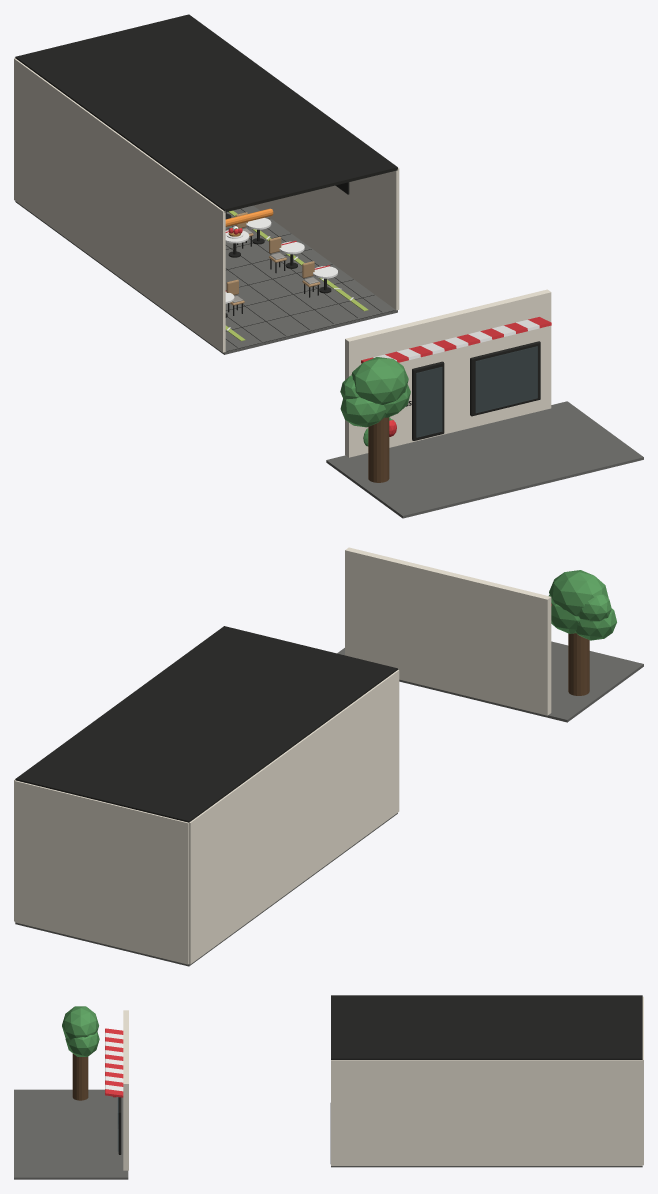
Rendered from Jagro_Polhengoda.glb.
The picture shows the model from 3 angles, top to bottom: view 1: azimuth 30°, elevation 25°; view 2: azimuth 150°, elevation 25°; view 3: azimuth 270°, elevation 25°; orthographic projection. The views are drawn at different scales.
Visible parts, largest first — view 1: INT_Ceiling, INT_LeftWall, EXT_Ground, EXT_Facade, INT_Floor, INT_RightWall, EXT_ServiceFrame, EXT_ServiceGlass, EXT_DoorFrame, EXT_TreeCrown_2, EXT_DoorGlass, EXT_TreeTrunk (+1 smaller); view 2: INT_Ceiling, INT_LeftWall, INT_BackWall, EXT_Facade, EXT_Ground, EXT_TreeCrown_2, EXT_TreeTrunk, INT_Floor, EXT_TreeCrown_0, EXT_TreeCrown_3, EXT_TreeCrown_1; view 3: INT_RightWall, INT_Ceiling, EXT_Ground, EXT_TreeCrown_2, EXT_Facade, EXT_TreeTrunk, INT_Floor, EXT_TreeCrown_1, INT_BackWall.
Part boxes in pixels (bbox=[...]): INT_Ceiling: bbox=[15, 14, 397, 212]; INT_LeftWall: bbox=[14, 58, 225, 352]; EXT_Ground: bbox=[326, 401, 643, 518]; EXT_Facade: bbox=[345, 289, 551, 457]; INT_Floor: bbox=[15, 201, 397, 354]; INT_RightWall: bbox=[253, 167, 399, 310]; EXT_ServiceFrame: bbox=[470, 341, 540, 416]; EXT_ServiceGlass: bbox=[475, 346, 537, 413]; EXT_DoorFrame: bbox=[412, 361, 444, 440]; EXT_TreeCrown_2: bbox=[351, 357, 408, 404]; EXT_DoorGlass: bbox=[416, 367, 442, 437]; EXT_TreeTrunk: bbox=[368, 417, 389, 482]; INT_Ceiling: bbox=[15, 626, 397, 822]; INT_LeftWall: bbox=[189, 670, 399, 964]; INT_BackWall: bbox=[14, 780, 188, 964]; EXT_Facade: bbox=[345, 547, 551, 715]; EXT_Ground: bbox=[337, 641, 643, 722]; EXT_TreeCrown_2: bbox=[549, 570, 608, 616]; EXT_TreeTrunk: bbox=[568, 633, 589, 695]; INT_Floor: bbox=[15, 813, 397, 966]; EXT_TreeCrown_0: bbox=[575, 608, 616, 640]; EXT_TreeCrown_3: bbox=[579, 594, 611, 621]; EXT_TreeCrown_1: bbox=[549, 595, 580, 633]; INT_RightWall: bbox=[331, 1060, 642, 1165]; INT_Ceiling: bbox=[331, 995, 642, 1059]; EXT_Ground: bbox=[14, 1089, 128, 1179]; EXT_TreeCrown_2: bbox=[62, 1006, 98, 1039]; EXT_Facade: bbox=[123, 1010, 128, 1170]; EXT_TreeTrunk: bbox=[72, 1053, 88, 1100]; INT_Floor: bbox=[331, 1166, 642, 1167]; EXT_TreeCrown_1: bbox=[65, 1032, 99, 1056]; INT_BackWall: bbox=[642, 996, 643, 1165].
Size of the model in its own units: 10.6 by 5.76 by 30.31.
